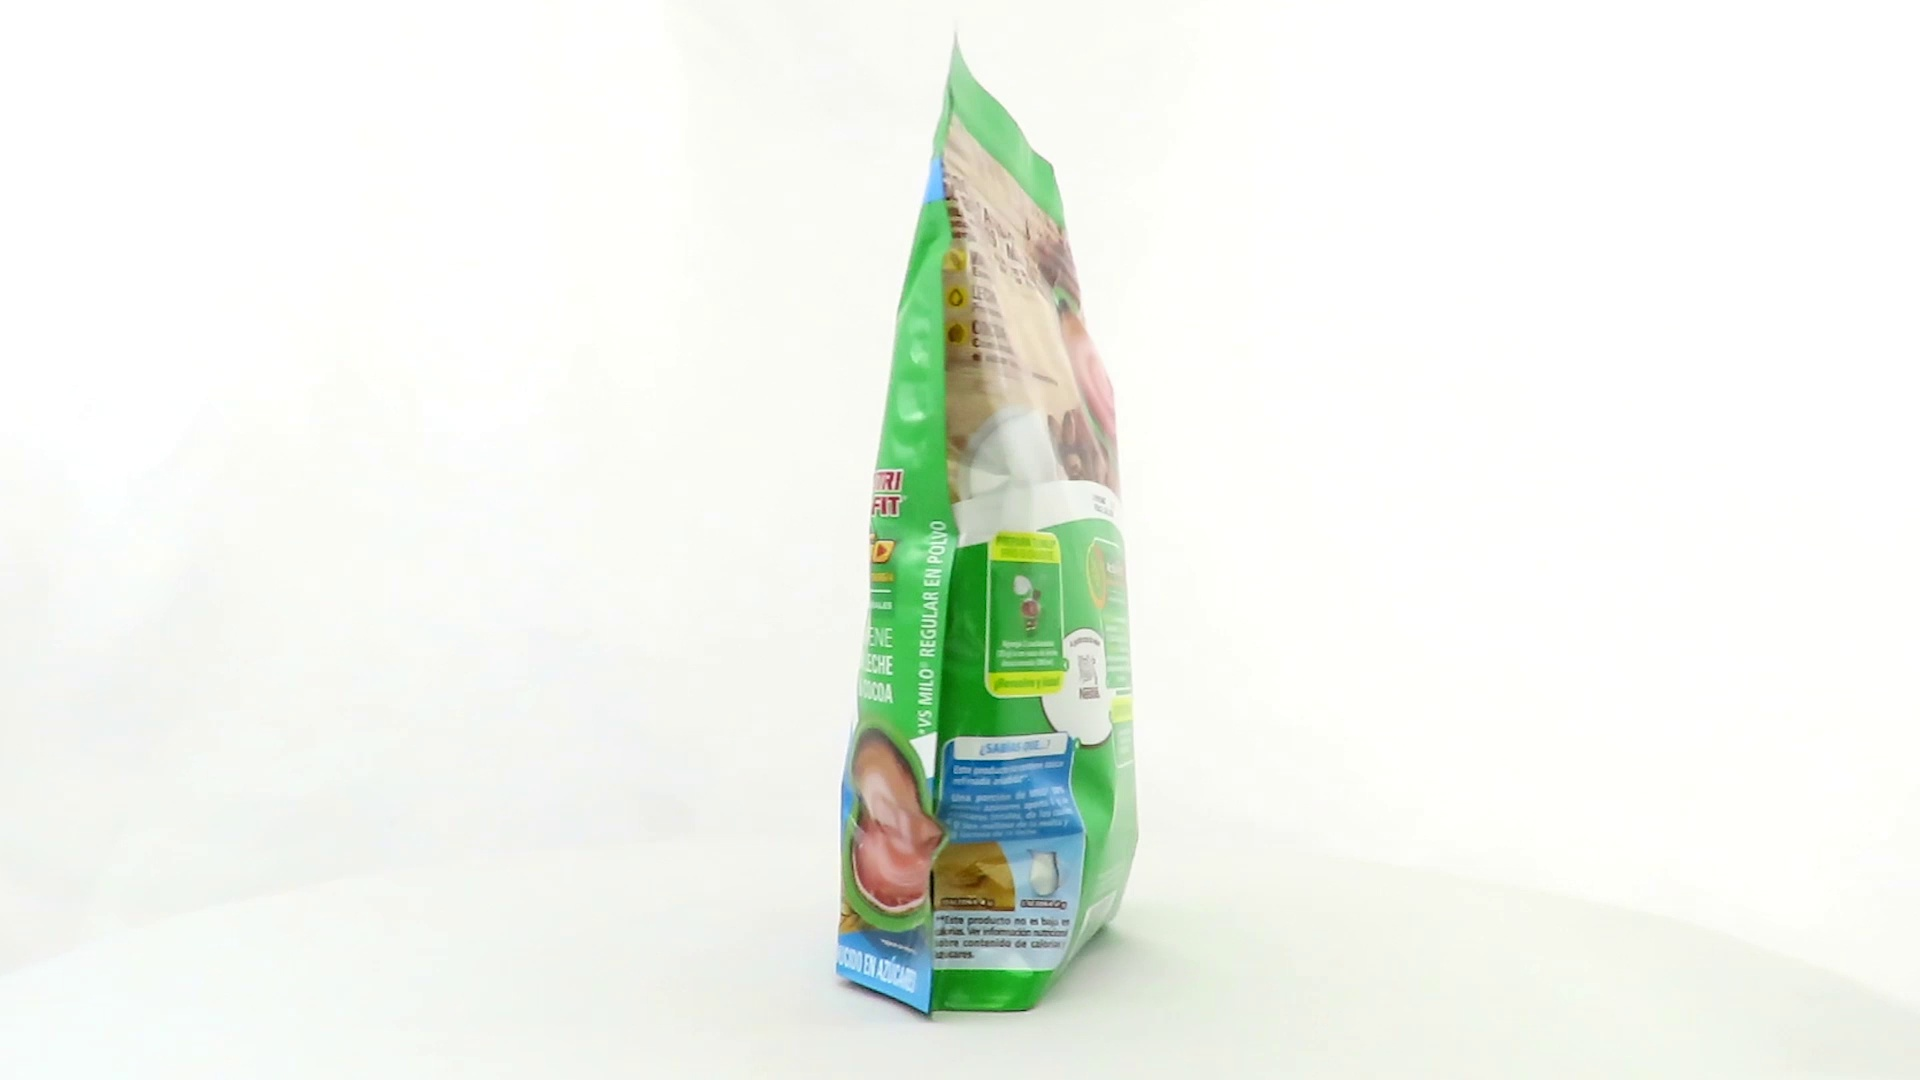COL0170205DYP50000: (831, 15, 1145, 1027)
